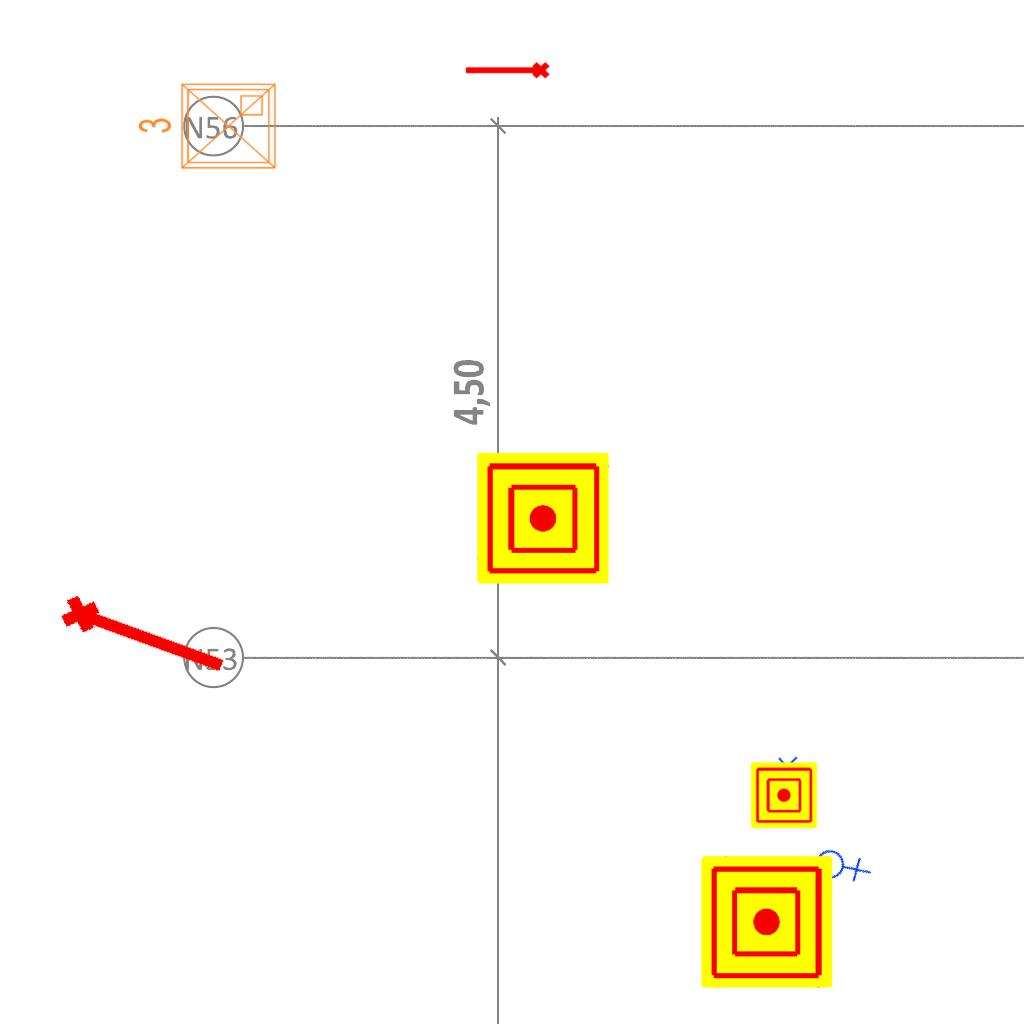ASR_Ansaugoeffnung: (54, 583, 236, 687), (463, 60, 551, 83)
Einbaudownlights_LED_Konferenzraeume: (133, 76, 283, 180)
Elektroanschluss_allgemein_230V_Geraeteanschlussdose_230V: (807, 831, 874, 898), (749, 754, 798, 801)
NAM-Nichtautomatischer_Melder: (701, 856, 833, 988), (477, 452, 609, 584), (751, 762, 817, 828)
